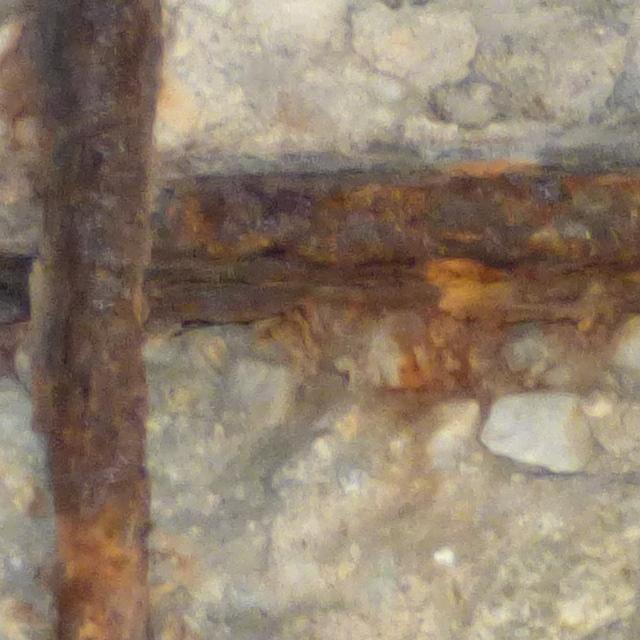Rust: (10, 7, 171, 628), (161, 164, 637, 346)
